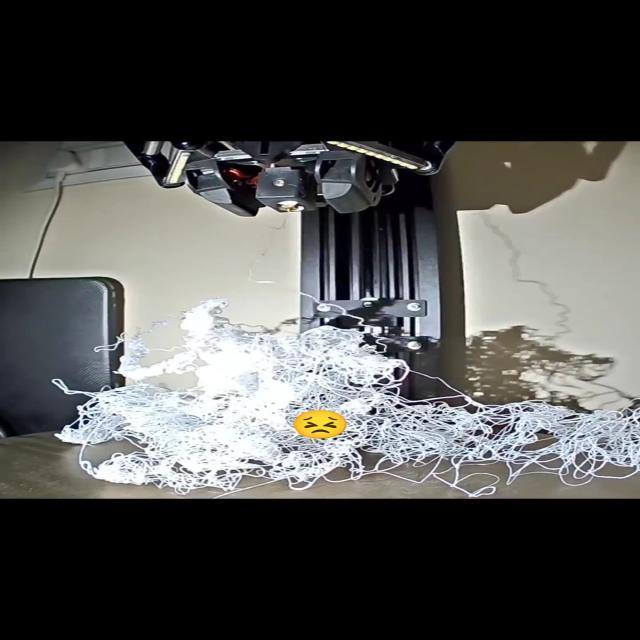spaghetti: (52, 274, 640, 496)
